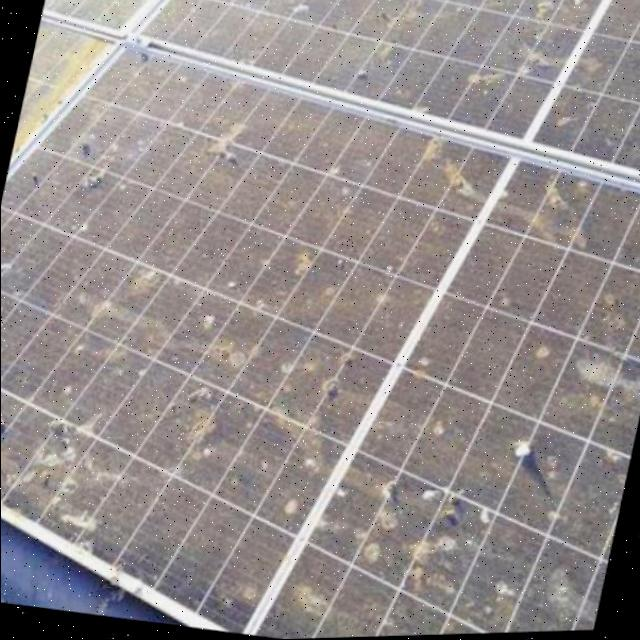Anomaly Solar Panel: (0, 21, 640, 640), (34, 0, 640, 184)
Surface Contaminant: (0, 19, 640, 640), (4, 0, 640, 181)
